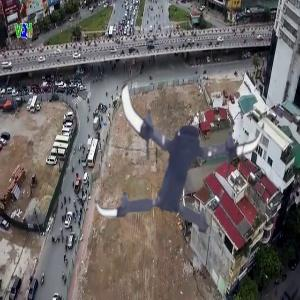drone: (97, 70, 267, 240)
